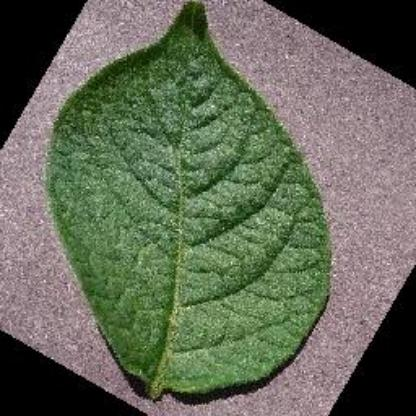Healthy-plant: (45, 0, 339, 402)
